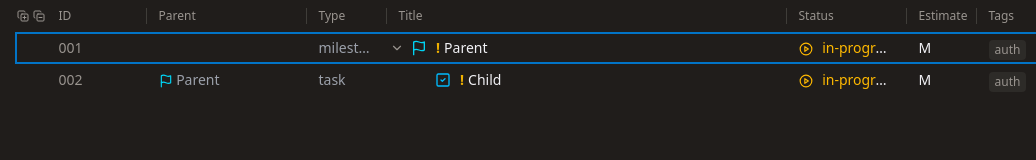
Test: TreeTable › keyboard navigation › ArrowRight on collapsed parent expands it
First collapse the parent
Click the button with test id "toggle": (396, 48) [386, 38, 406, 58]
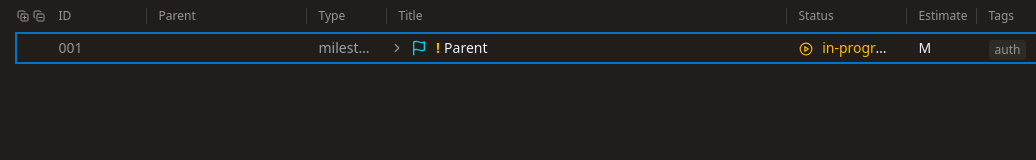
Result: the button "Child" is gone
Now ArrowRight should expand it
Press Arrowright
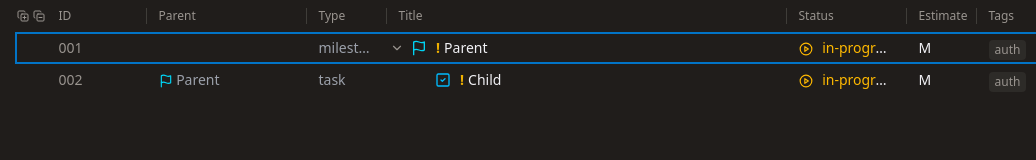
Result: the button "Child" is shown at [468, 70, 501, 90]
